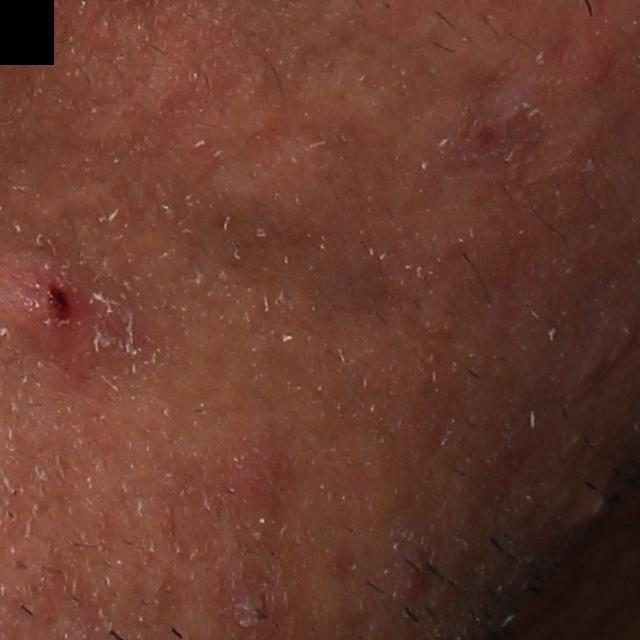papule: (218, 446, 294, 522), (565, 27, 623, 97)
